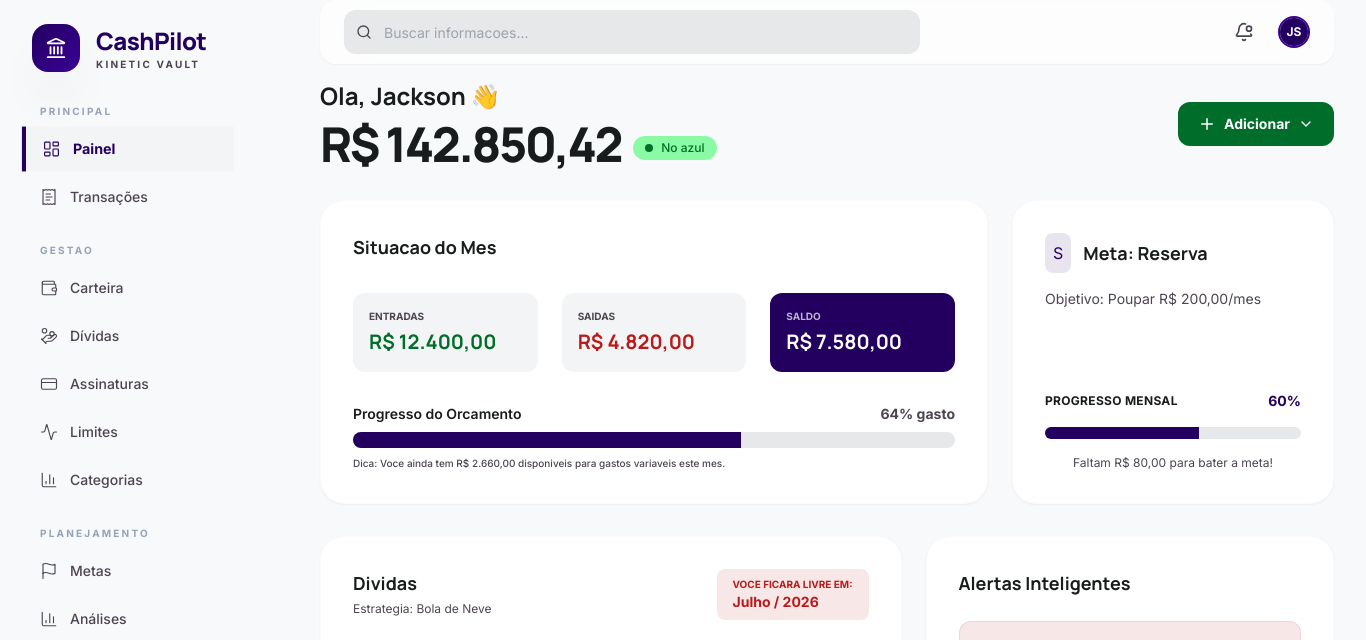
Test: CashPilot app shell › navigates to goals page from the sidebar
Click the link "Metas" at (76, 571), box 40,562 -> 111,580
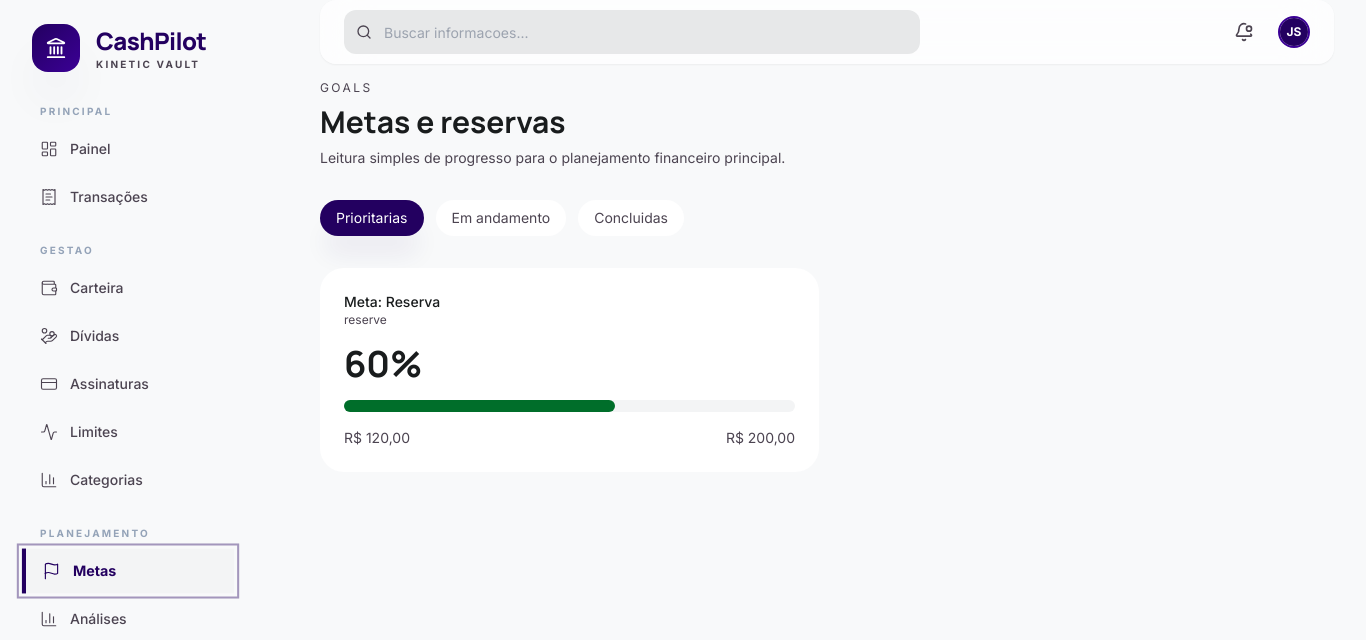
Expected: the heading "Metas e reservas" is shown, 320,101 -> 566,142
